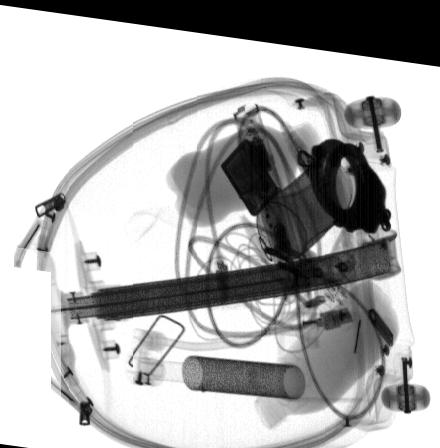Baton: (233, 92, 312, 292)
HandCuffs: (306, 128, 394, 225)
Lighter: (222, 131, 280, 209)
